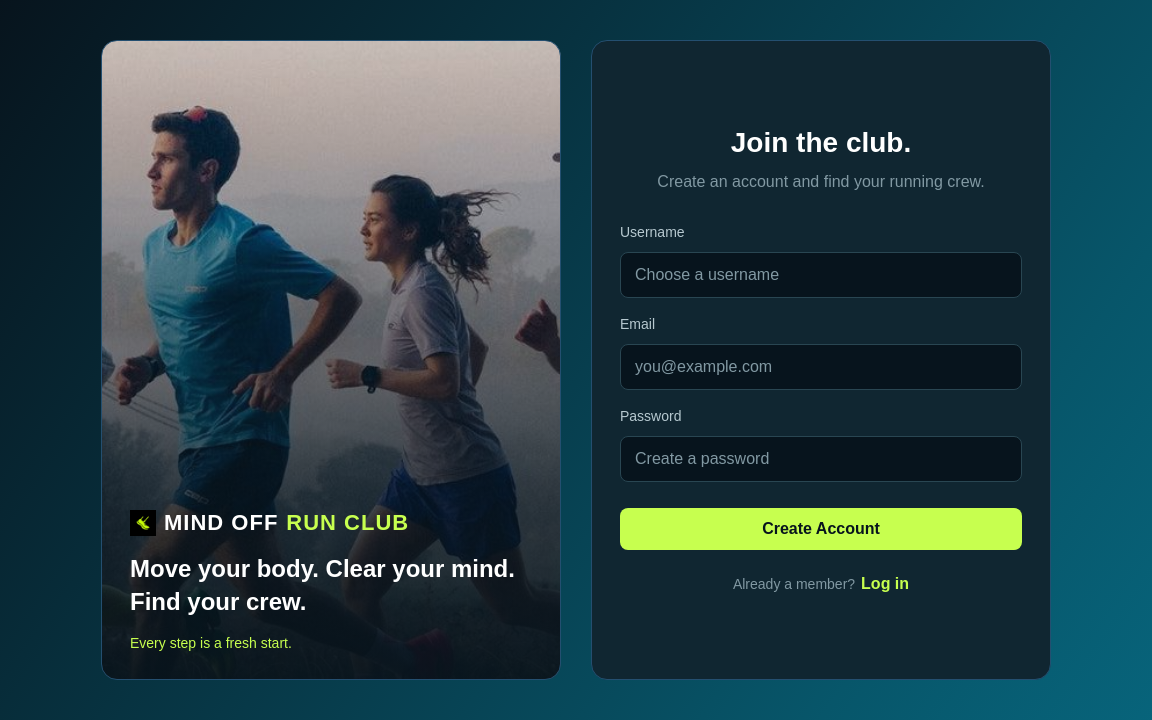
Test: Signup component › creates an account and saves the token when a session is returned
In the field labelled "Username": point(821, 275) [620,252,1022,298], type "runner123"
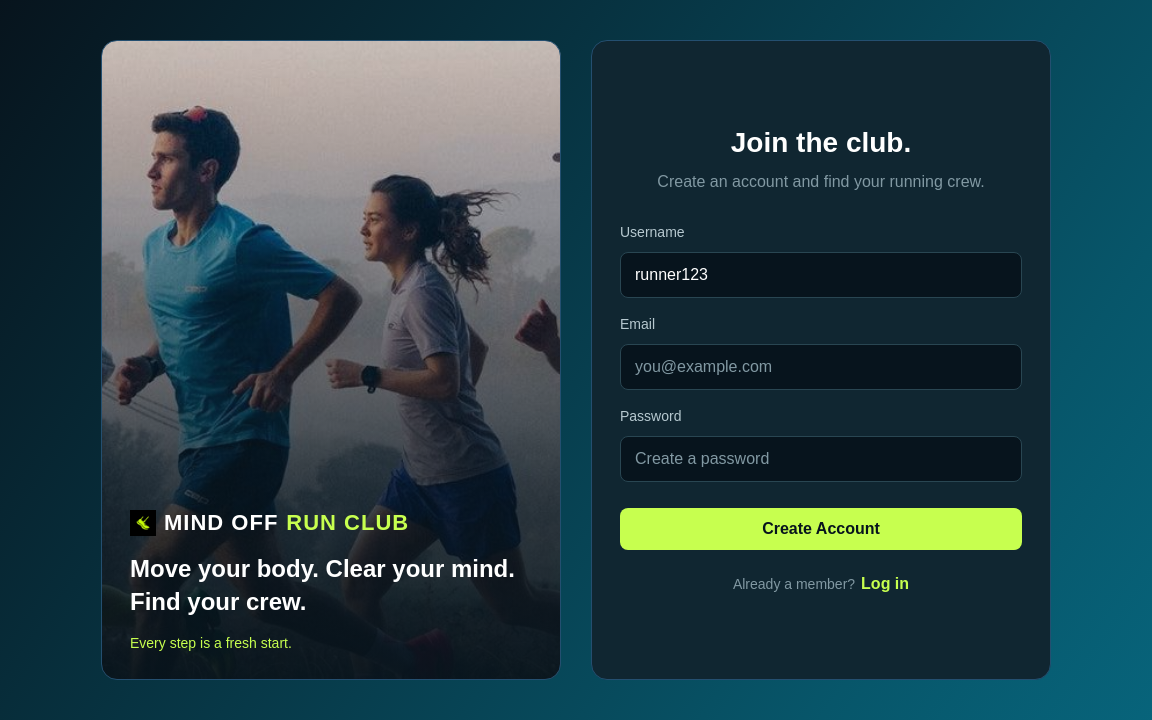
In the field labelled "Email": point(821, 367) [620,344,1022,390], type "runner@example.com"
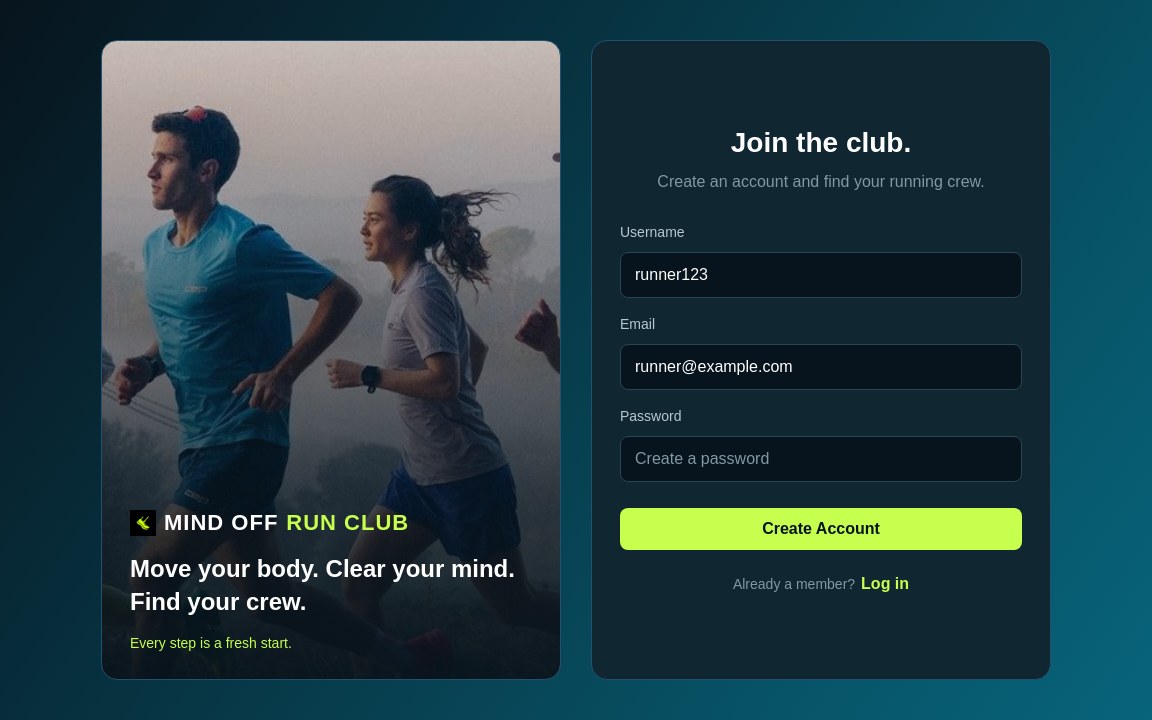
In the password field labelled "Password": point(821, 459) [620,436,1022,482], type "password123"
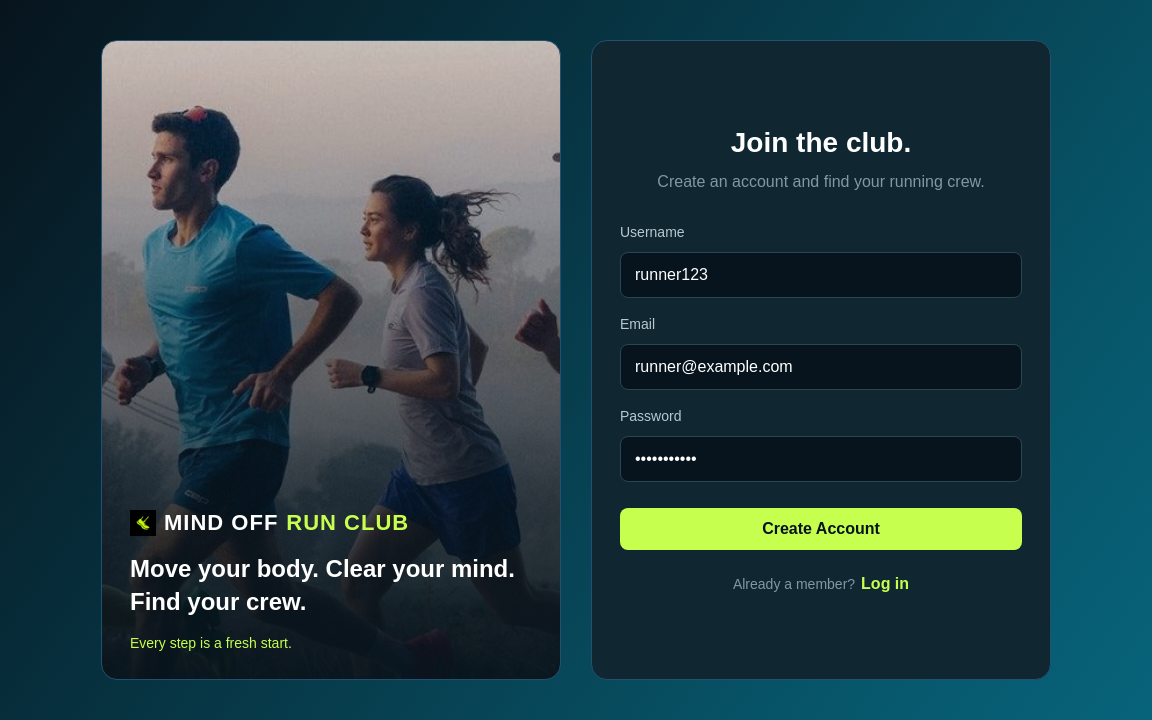
Click the button "Create Account": point(821, 529) [620,508,1022,550]
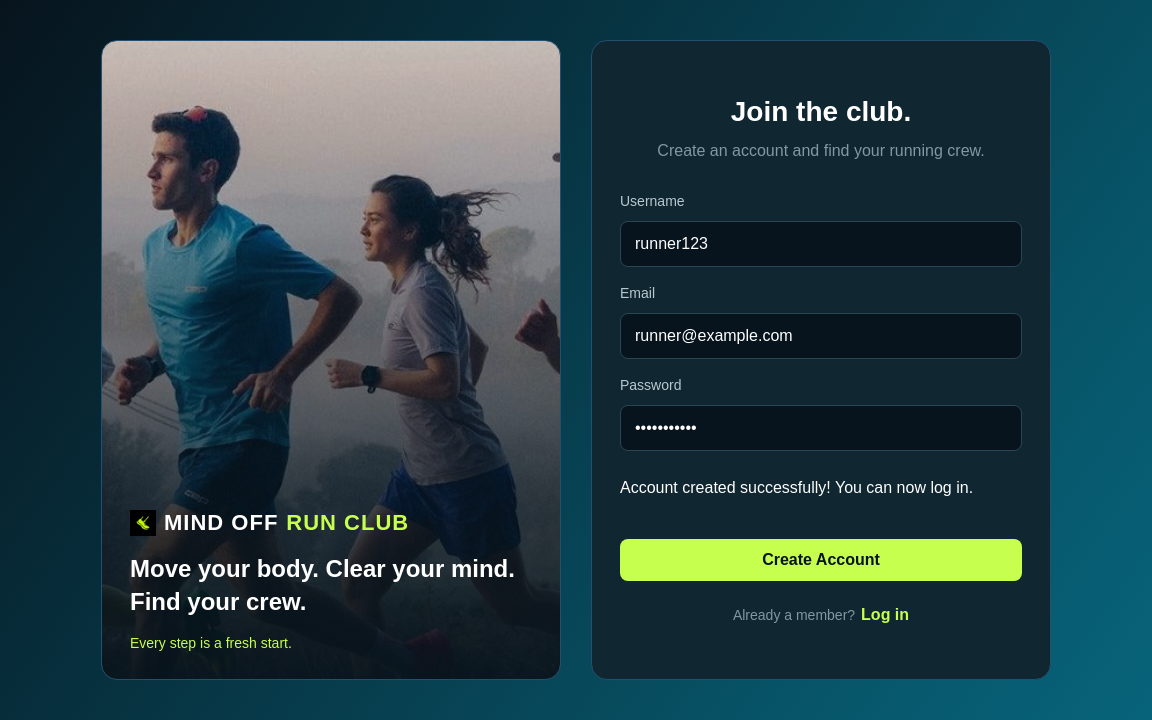
Now the message reads "Account created successfully! You can now log in.", box [620,479,973,496]
